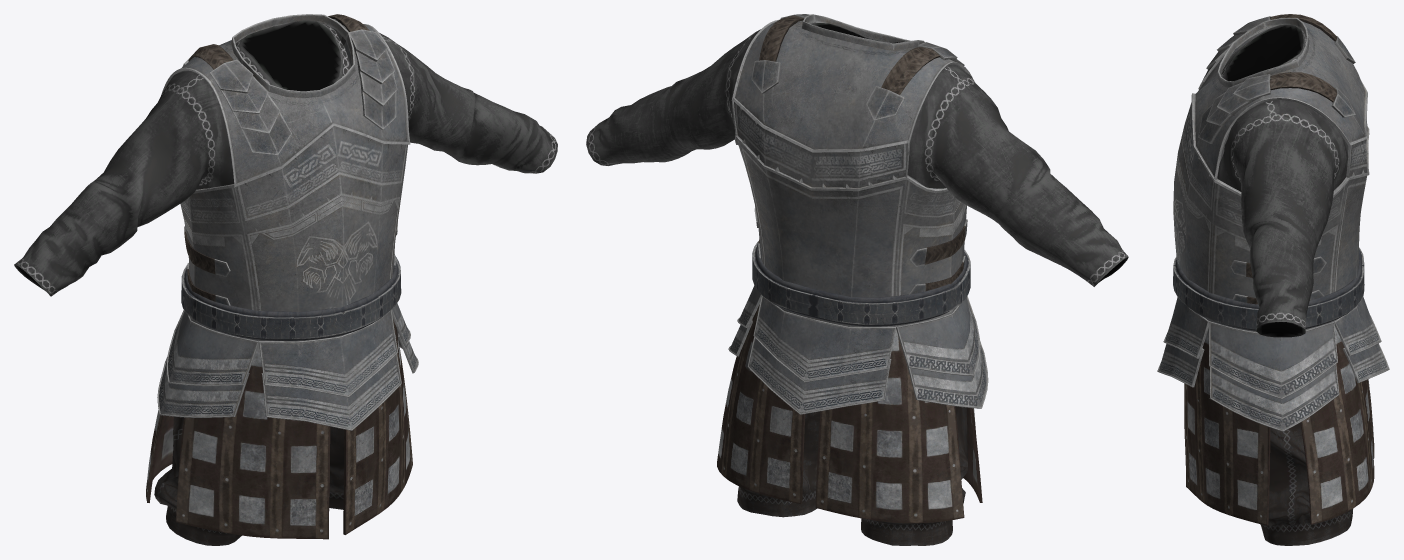
The model's file is sk_dwarf_erebor_chest_plate_elite_f.fbx.
3 renders of one model, left to right at view 1: azimuth 30°, elevation 25°; view 2: azimuth 150°, elevation 25°; view 3: azimuth 270°, elevation 25°, orthographic. The views are drawn at different scales.
Visible parts, largest first — view 1: sk_dwarf_erebor_chest_plate_elite_f.3, sk_dwarf_erebor_chest_plate_elite_f.0, sk_dwarf_erebor_chest_plate_elite_f.2, sk_dwarf_erebor_chest_plate_elite_f.1; view 2: sk_dwarf_erebor_chest_plate_elite_f.3, sk_dwarf_erebor_chest_plate_elite_f.0, sk_dwarf_erebor_chest_plate_elite_f.2, sk_dwarf_erebor_chest_plate_elite_f.1; view 3: sk_dwarf_erebor_chest_plate_elite_f.3, sk_dwarf_erebor_chest_plate_elite_f.0, sk_dwarf_erebor_chest_plate_elite_f.2, sk_dwarf_erebor_chest_plate_elite_f.1.
Boxes of the visible parts, left/top/right/bottom form: sk_dwarf_erebor_chest_plate_elite_f.3: left=157, top=14, right=418, bottom=430; sk_dwarf_erebor_chest_plate_elite_f.0: left=14, top=20, right=557, bottom=539; sk_dwarf_erebor_chest_plate_elite_f.2: left=182, top=14, right=397, bottom=305; sk_dwarf_erebor_chest_plate_elite_f.1: left=154, top=416, right=344, bottom=545; sk_dwarf_erebor_chest_plate_elite_f.3: left=728, top=14, right=988, bottom=414; sk_dwarf_erebor_chest_plate_elite_f.0: left=586, top=23, right=1128, bottom=523; sk_dwarf_erebor_chest_plate_elite_f.2: left=751, top=14, right=967, bottom=294; sk_dwarf_erebor_chest_plate_elite_f.1: left=737, top=406, right=967, bottom=545; sk_dwarf_erebor_chest_plate_elite_f.3: left=1157, top=18, right=1389, bottom=431; sk_dwarf_erebor_chest_plate_elite_f.0: left=1184, top=24, right=1374, bottom=525; sk_dwarf_erebor_chest_plate_elite_f.2: left=1198, top=14, right=1355, bottom=304; sk_dwarf_erebor_chest_plate_elite_f.1: left=1260, top=423, right=1352, bottom=545.
Bounding box in the file's own units: 1.17 × 0.4648 × 1.03.
Materials: 4 (4 with a texture image).
